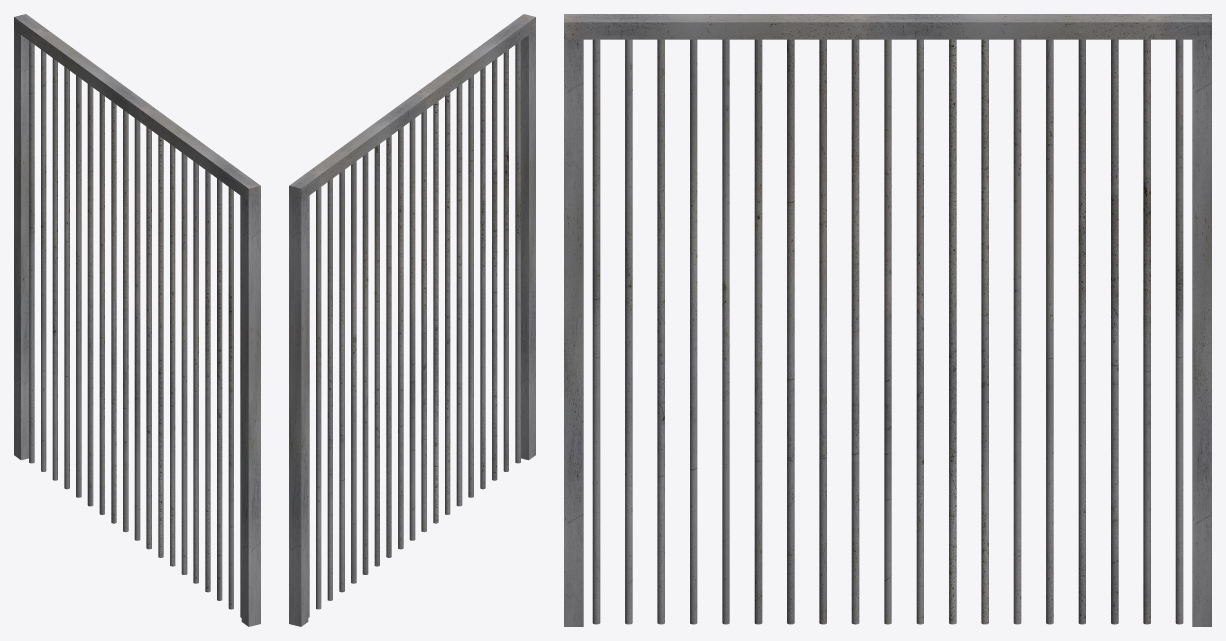
File: fence.FBX
The picture shows the model from 3 angles, left to right: view 1: azimuth 30°, elevation 25°; view 2: azimuth 150°, elevation 25°; view 3: azimuth 270°, elevation 25°; orthographic projection. The views are drawn at different scales.
Parts seen in each view (by area): view 1: Box001, Box002, Box005, Cylinder001, Cylinder019, Cylinder008, Cylinder017, Cylinder005, Cylinder009, Cylinder015, Cylinder002, Cylinder012 (+10 smaller); view 2: Box002, Box001, Box005, Cylinder001, Cylinder008, Cylinder019, Cylinder007, Cylinder018, Cylinder016, Cylinder003, Cylinder011, Cylinder010 (+10 smaller); view 3: Box005, Box002, Box001, Cylinder015, Cylinder002, Cylinder019, Cylinder008, Cylinder010, Cylinder017, Cylinder004, Cylinder003, Cylinder009 (+10 smaller).
Boxes of the visible parts, x1,y1,x2,y2 form: Box001: (241,196,260,626); Box002: (14,30,28,460); Box005: (14,14,260,201); Cylinder001: (134,118,140,540); Cylinder019: (87,84,93,506); Cylinder008: (181,153,187,574); Cylinder017: (52,58,57,480); Cylinder005: (193,161,198,583); Cylinder009: (228,187,233,609); Cylinder015: (29,41,34,463); Cylinder002: (146,127,151,549); Cylinder012: (111,101,116,523); Box002: (289,196,308,626); Box001: (521,30,535,460); Box005: (289,14,535,201); Cylinder001: (409,118,415,540); Cylinder008: (456,84,462,506); Cylinder019: (362,153,368,574); Cylinder007: (492,58,497,480); Cylinder018: (351,161,356,583); Cylinder016: (316,187,321,609); Cylinder003: (433,101,438,523); Cylinder011: (398,127,403,549); Cylinder010: (515,41,520,463); Box005: (564,14,1211,39); Box002: (1192,39,1211,626); Box001: (564,39,583,626); Cylinder015: (1175,39,1183,624); Cylinder002: (851,39,859,624); Cylinder019: (1013,39,1021,624); Cylinder008: (754,39,762,624); Cylinder010: (592,39,600,624); Cylinder017: (1111,39,1118,624); Cylinder004: (787,39,794,624); Cylinder003: (819,39,826,624); Cylinder009: (625,39,632,624).
Size of the model in its own units: 0.3 by 10.3 by 10.
Materials: 1 (1 with a texture image).
